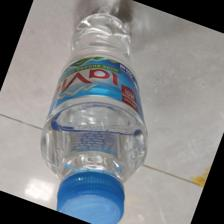Lavie: (37, 12, 150, 224)
